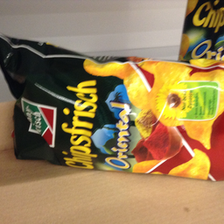chips: (1, 36, 224, 181)
